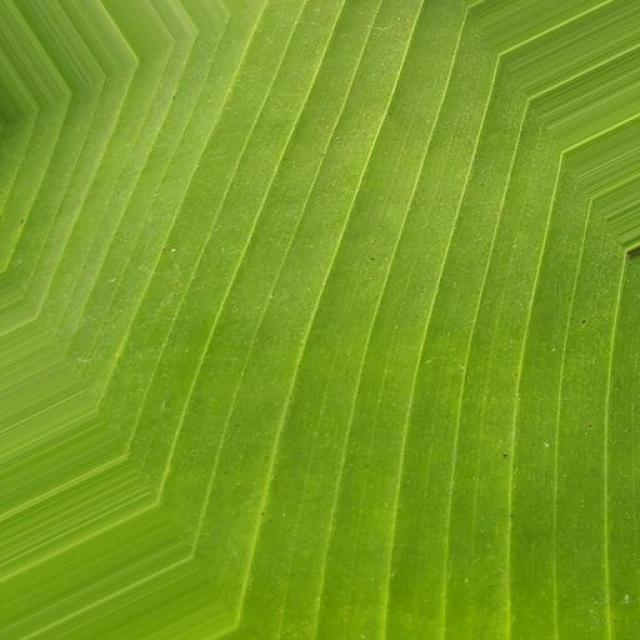Black_leaf_spot: (10, 0, 640, 573)
